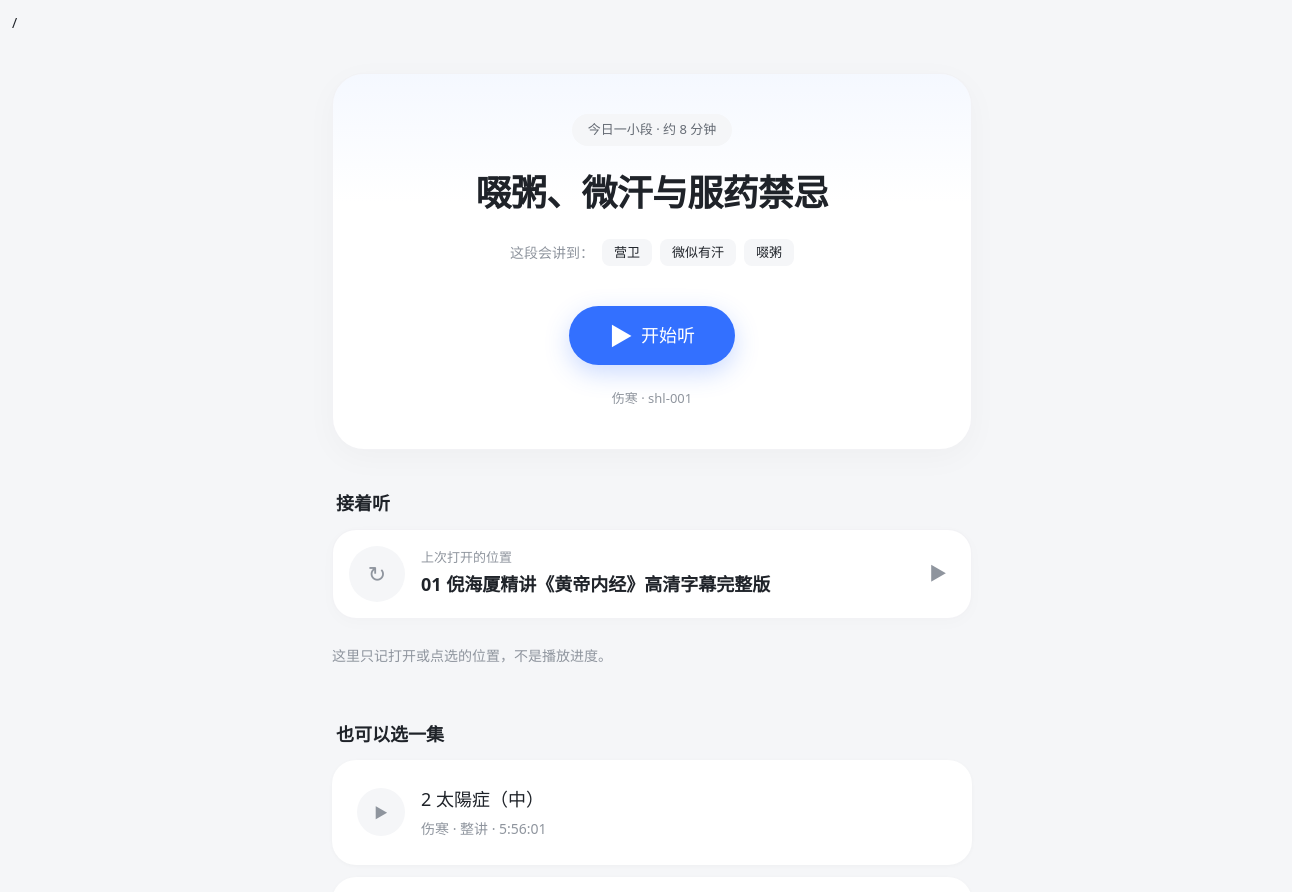
it: homepage resumes an old nj request without renaming stored source titles or treating it as playback
Expected: the text "这里只记打开或点选的位置，不是播放进度。" is shown, [332,646,612,664]
Click the link with class "resume-bar" at (652, 574), box [332,528,972,618]
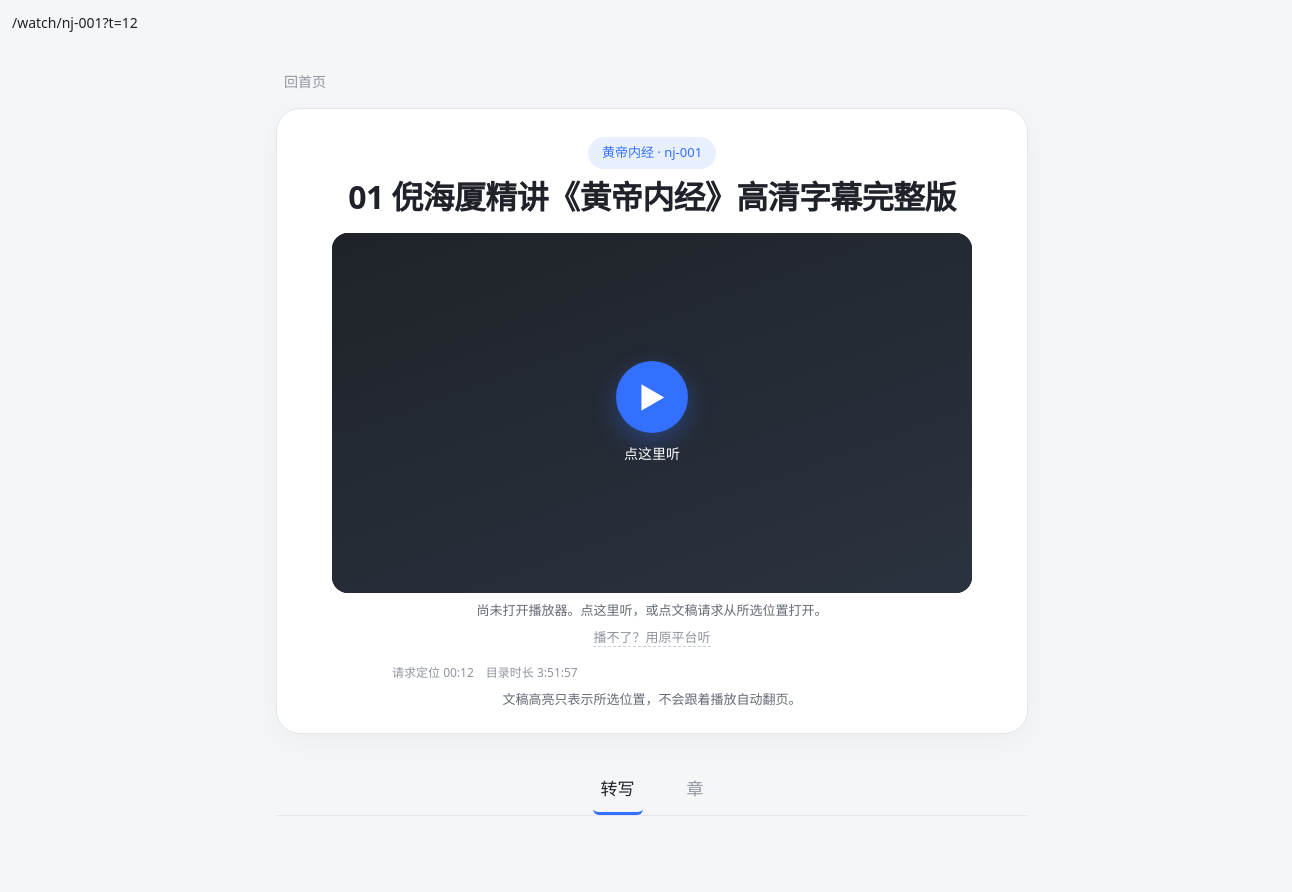
Result: the text with test id "location" reads "/watch/nj-001?t=12" at [12,13,138,32]
Result: the link with class "series-chip" reads "黄帝内经 · nj-001" at [588,137,716,168]
